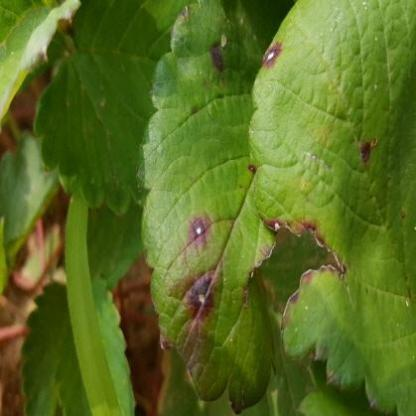Strawberry_Leaf_Spot: (247, 0, 415, 415), (136, 0, 295, 415)
